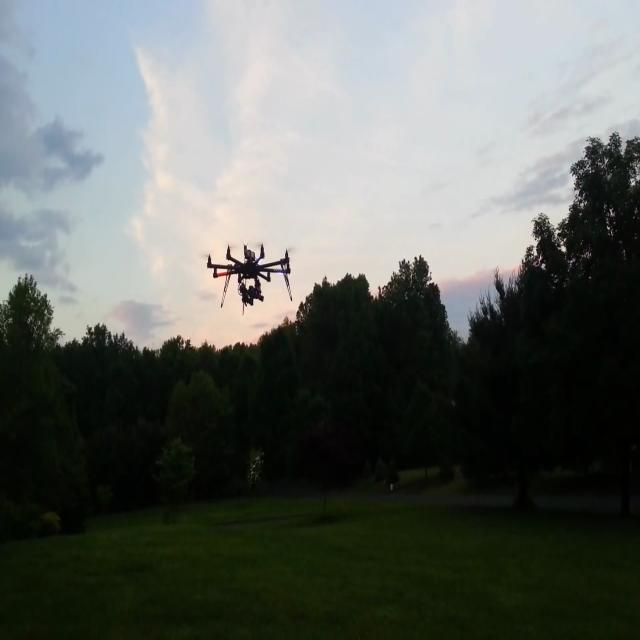drone: (201, 230, 309, 316)
